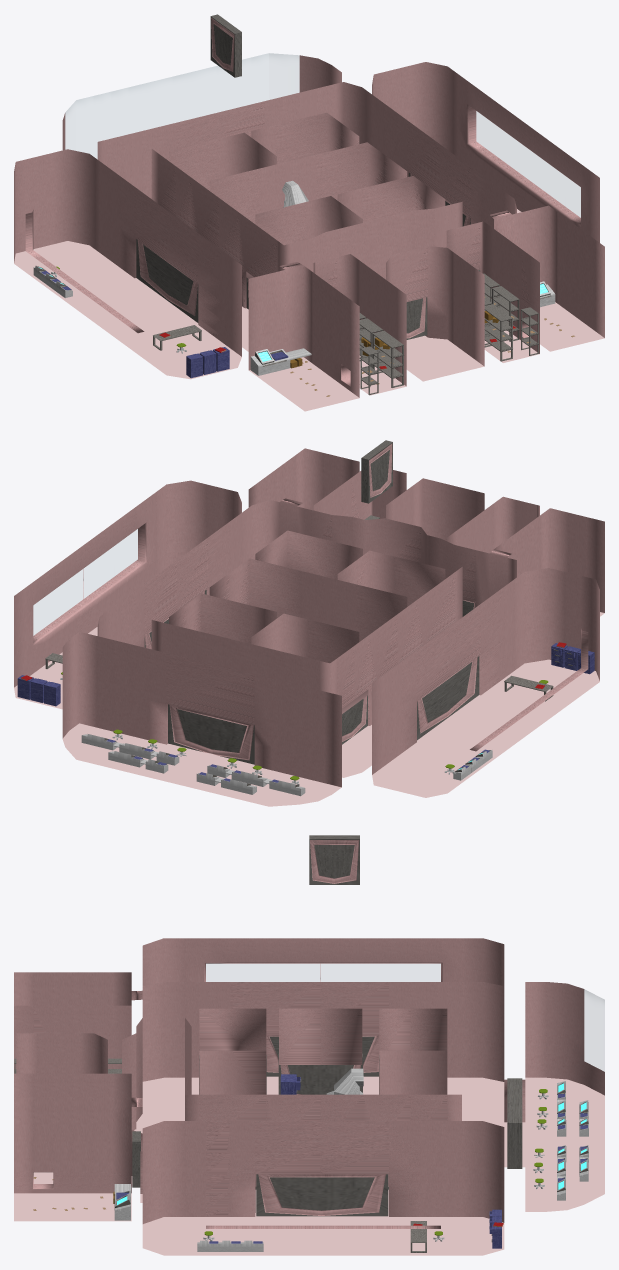
File: ship.gltf
3 renders of one model, top to bottom at view 1: azimuth 30°, elevation 25°; view 2: azimuth 150°, elevation 25°; view 3: azimuth 270°, elevation 25°, orthographic. The views are drawn at different scales.
Parts seen in each view (by area): view 1: wall (×2), MAIN_FLOOR, Door_5 (×2), Door_1, workbench1, Door_10; view 2: wall (×2), MAIN_FLOOR, Door_15 (×2), Door_5 (×2), Door_1, Door_6; view 3: wall (×2), MAIN_FLOOR, Door_4 (×2), Door_1 (×2), Door_3, Door_15, Door_5, vat1:pCylinder5.
Part boxes in pixels (<box>): wall (×2): <box>14,53,604,397</box>; MAIN_FLOOR: <box>14,209,604,411</box>; Door_5 (×2): <box>136,239,198,322</box>; Door_1: <box>210,14,241,77</box>; workbench1: <box>250,348,311,375</box>; Door_10: <box>406,297,427,339</box>; wall (×2): <box>14,448,604,787</box>; MAIN_FLOOR: <box>14,612,604,806</box>; Door_15 (×2): <box>168,704,254,764</box>; Door_5 (×2): <box>417,656,479,740</box>; Door_1: <box>361,440,392,503</box>; Door_6: <box>342,695,367,744</box>; wall (×2): <box>14,938,604,1228</box>; MAIN_FLOOR: <box>14,1076,604,1255</box>; Door_4 (×2): <box>256,1174,388,1216</box>; Door_1 (×2): <box>309,835,359,884</box>; Door_3: <box>278,1053,362,1094</box>; Door_15: <box>507,1078,522,1168</box>; Door_5: <box>266,1035,379,1072</box>; vat1:pCylinder5: <box>326,1068,363,1094</box>.
Bounding box in the file's own units: 0.2572 × 0.1432 × 0.2793.
